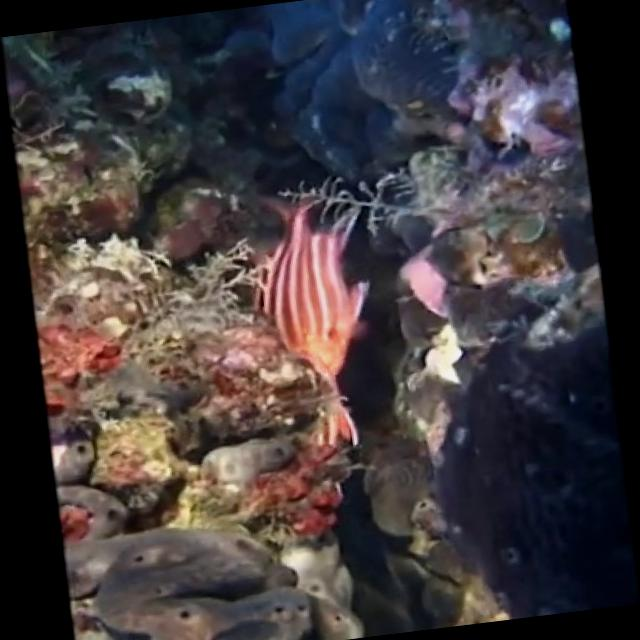Asker Baligi: (242, 190, 391, 459)
